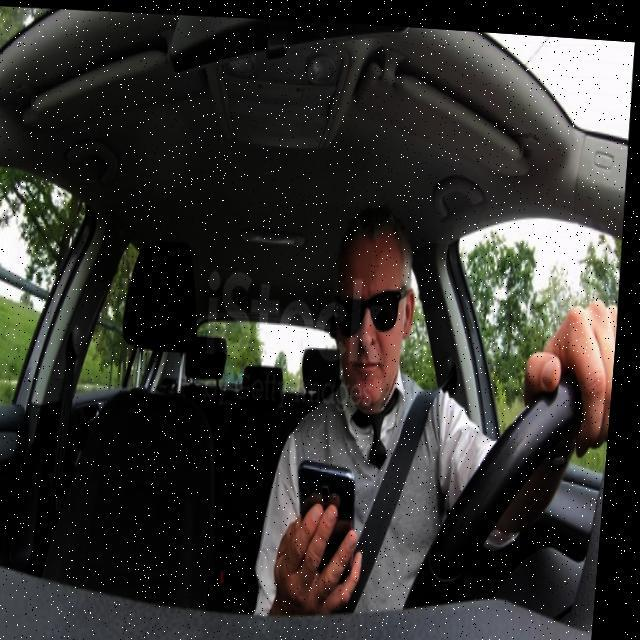PhoneCall: (298, 452, 372, 600)
